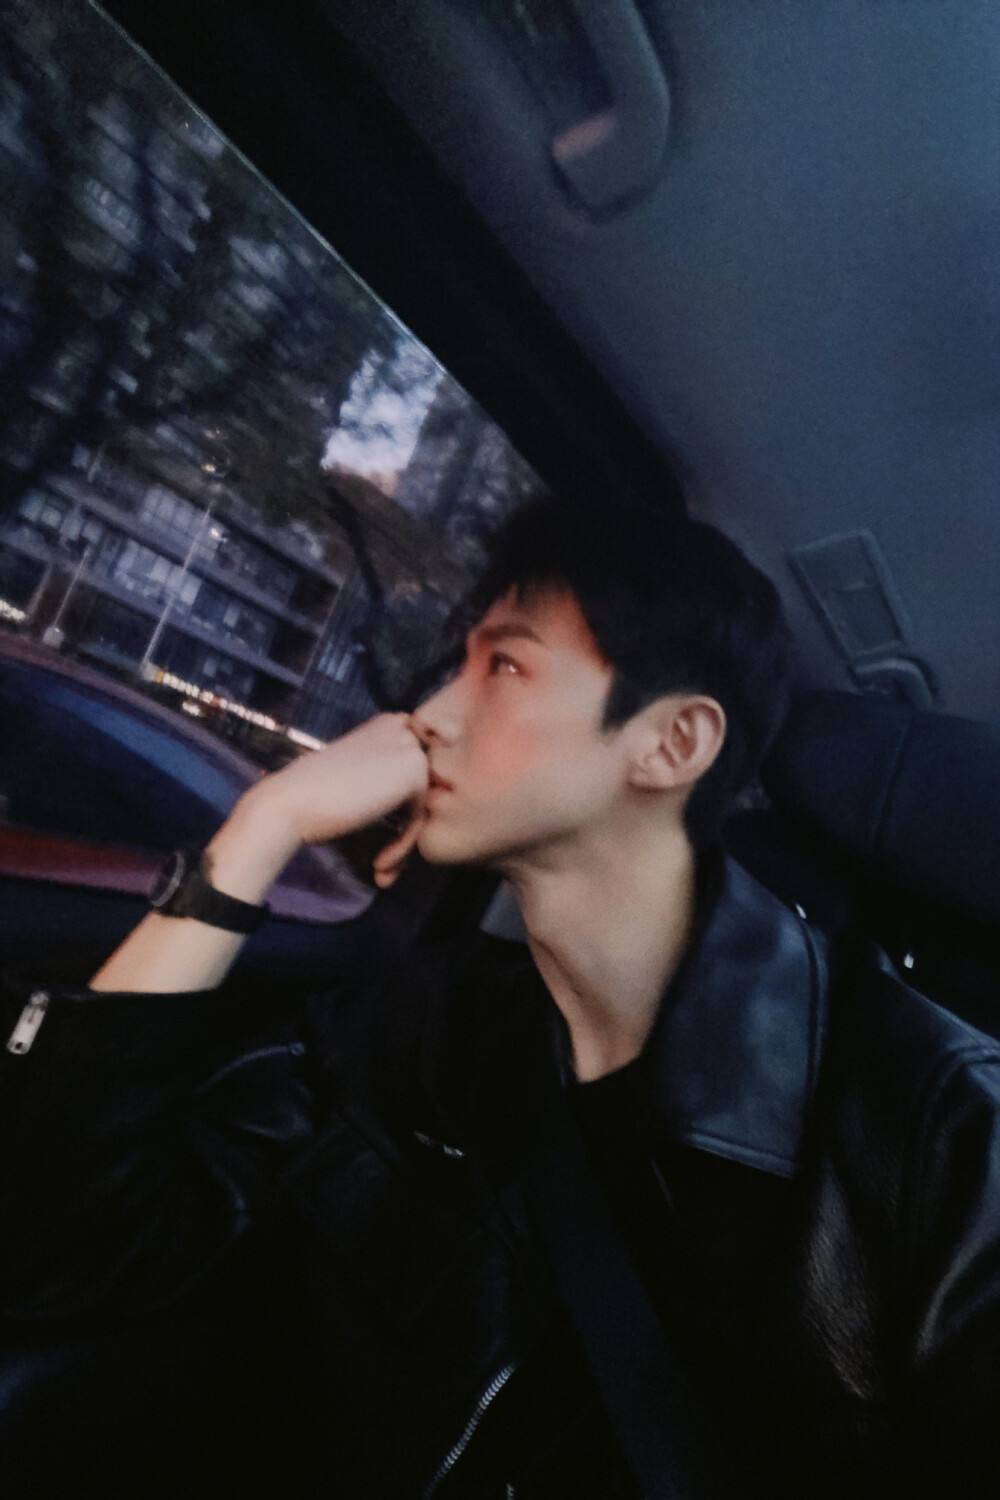person: (229, 418, 837, 1140)
